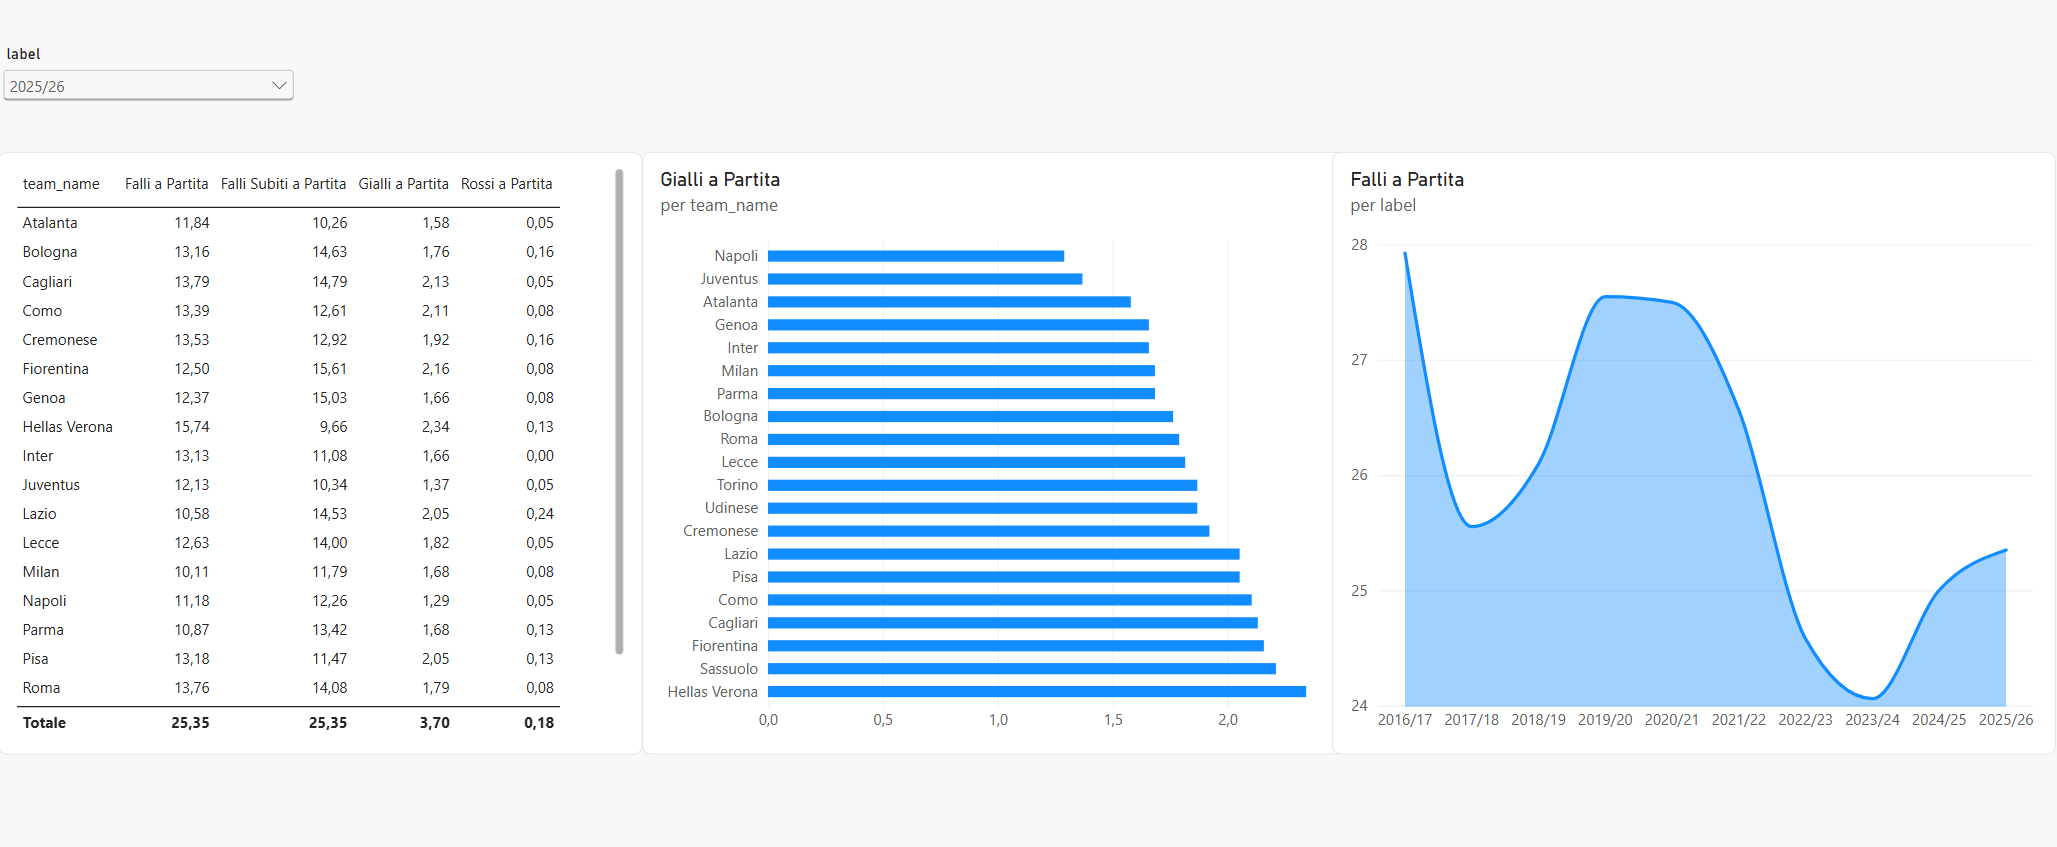

This screenshot's page, from the dashboard's own definition file:
{"tool":"powerbi","page":{"name":"Disciplina","canvas":[1920,1080],"ordinal":3},"visuals":[{"type":"slicer","fields":{"Values":["dim_season.label"]},"box":[0,161,279.8,289.6],"z":0},{"type":"clusteredBarChart","fields":{"Category":["dim_team.team_name"],"Y":["Misure.Gialli a Partita"]},"box":[598.8,260.1,656.7,559.5],"z":1},{"type":"tableEx","fields":{"Values":["dim_team.team_name","Misure.Falli a Partita","Misure.Falli Subiti a Partita","Misure.Gialli a Partita","Misure.Rossi a Partita"]},"box":[0,260.1,598.8,559.5],"z":2},{"type":"areaChart","fields":{"Category":["dim_season.label"],"Y":["Misure.Falli a Partita"]},"box":[1239.8,260.1,673.4,559.5],"z":3}]}

Visuals, with their boxes on the page's 1920x1080 design canvas (x1, y1, x2, y2). These are canvas units, not pixel positions in the 2057x847 screenshot, which may show the page scaled, cropped or inside an application window:
slicer - dim_season.label: 0, 161, 280, 451
clusteredBarChart - dim_team.team_name x Misure.Gialli a Partita: 599, 260, 1256, 820
tableEx - dim_team.team_name x Misure.Falli a Partita: 0, 260, 599, 820
areaChart - dim_season.label x Misure.Falli a Partita: 1240, 260, 1913, 820
